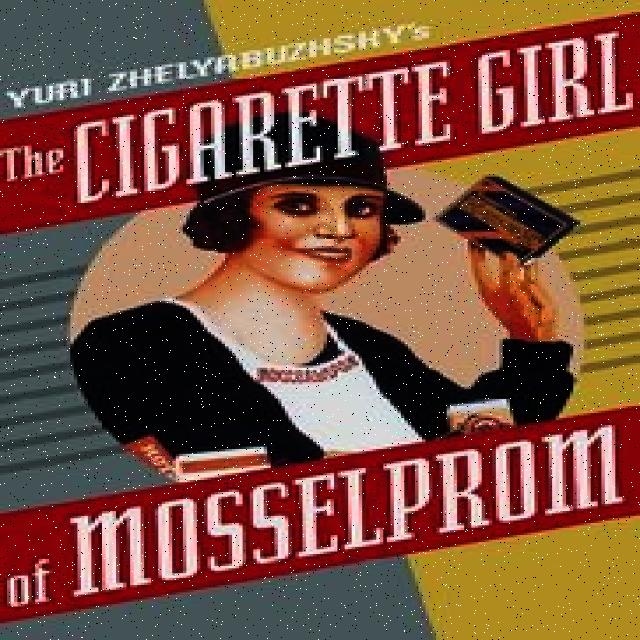movie-judul: (3, 12, 640, 231), (0, 406, 638, 623)
picture: (107, 143, 558, 437)
